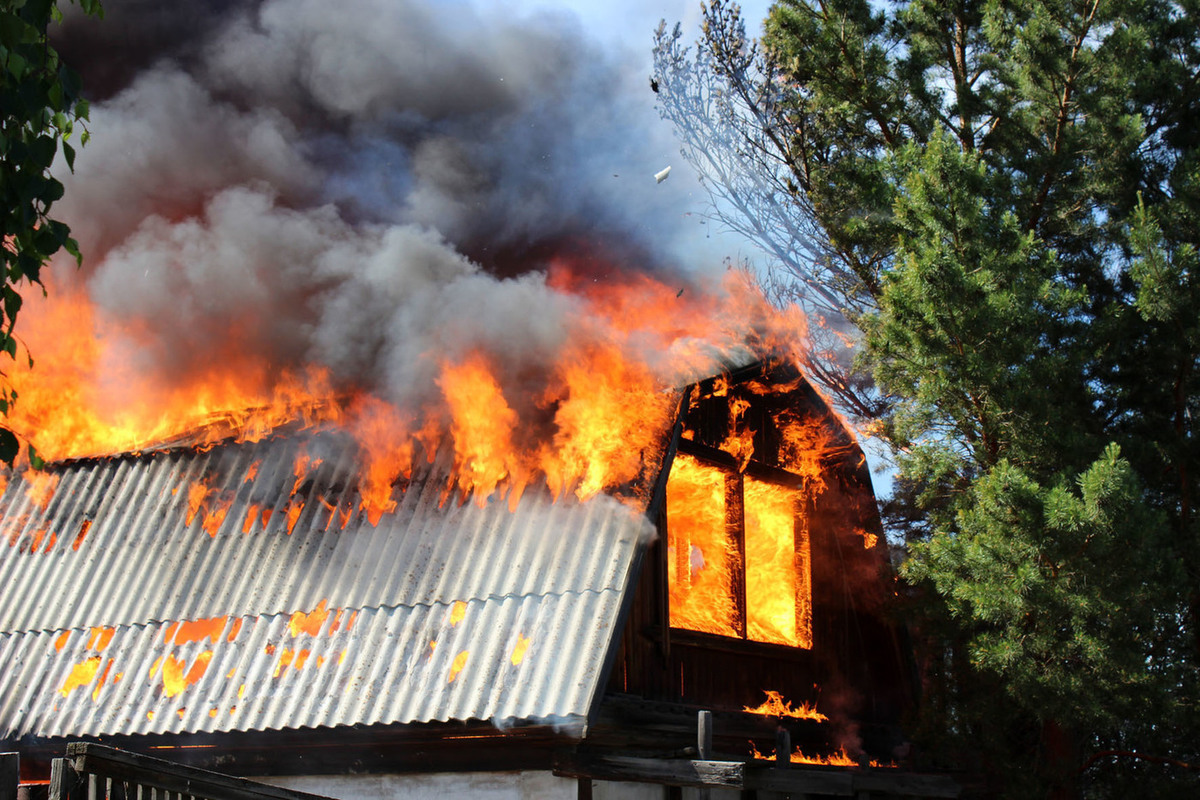fire: (65, 12, 826, 667)
